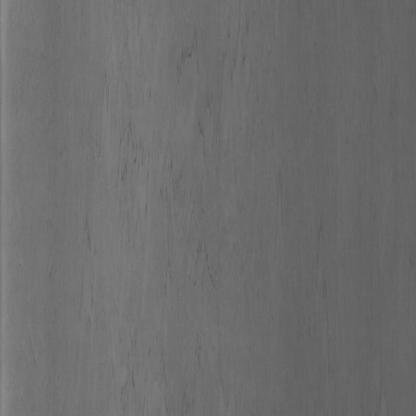silk_spot: (118, 3, 259, 272)
